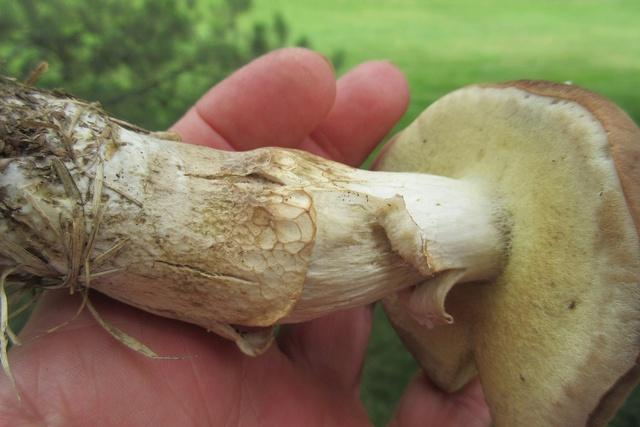Edible Mushroom: (1, 69, 637, 423)
